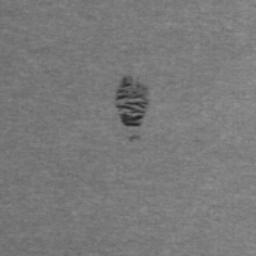Secondary rust skin: (116, 74, 150, 127)
